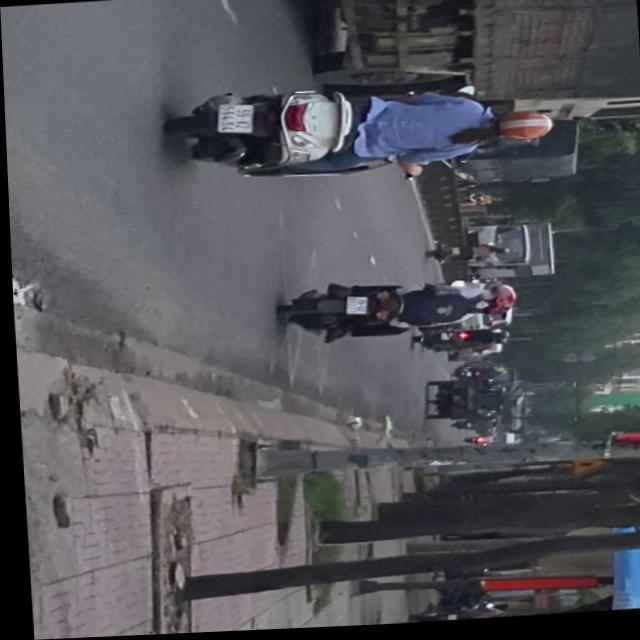helmet: (490, 110, 555, 147), (474, 286, 516, 313)
licenseplate: (159, 70, 559, 191), (277, 272, 522, 347)
nohelmet: (215, 104, 253, 135), (343, 298, 365, 316)
